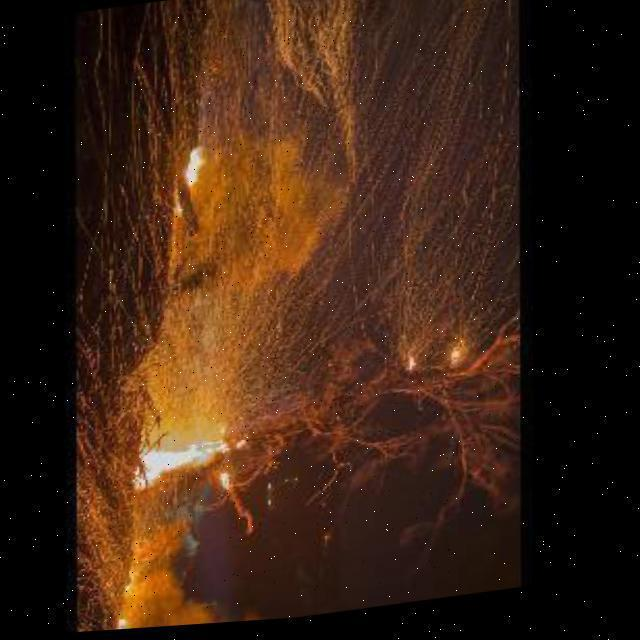fire: (133, 424, 251, 516), (164, 134, 217, 225)
